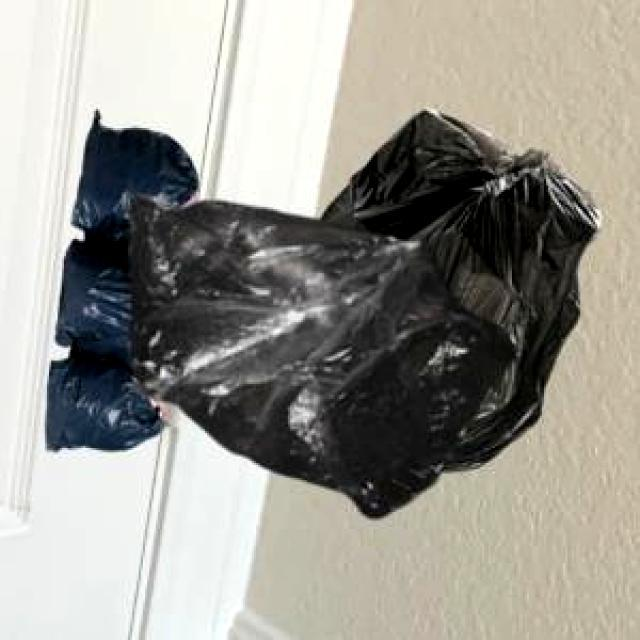Garbage_Bag: (125, 190, 511, 516), (318, 106, 598, 468), (44, 108, 195, 450)
